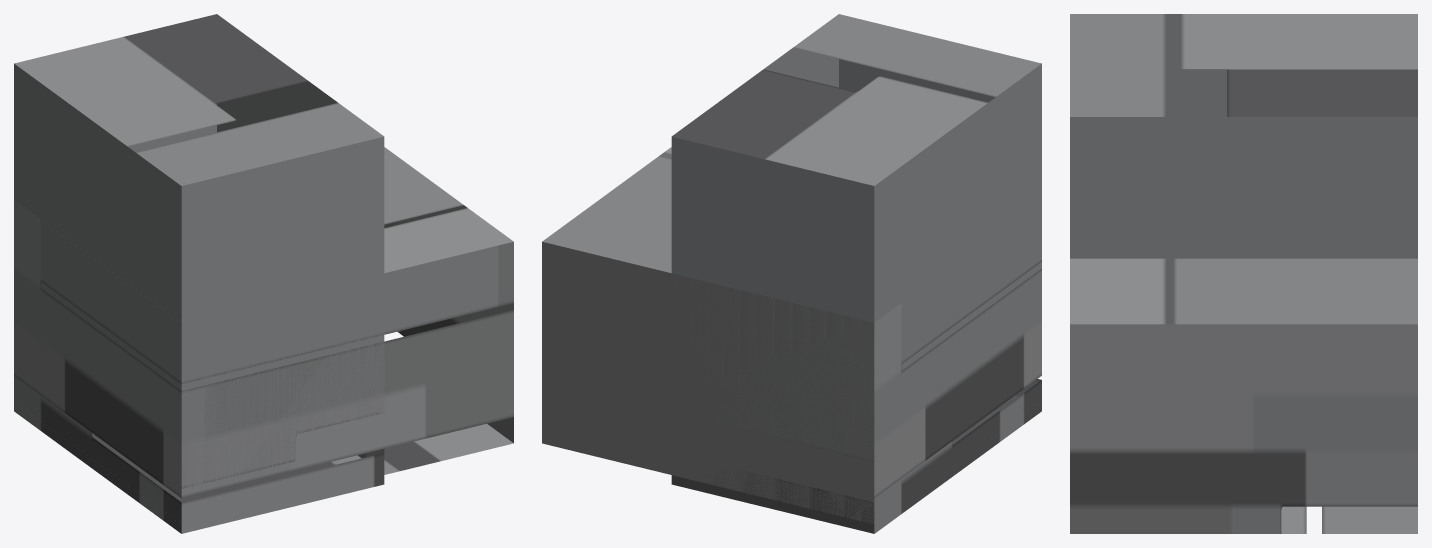
3 views of the same model, side by side, from view 1: azimuth 30°, elevation 25°; view 2: azimuth 150°, elevation 25°; view 3: azimuth 270°, elevation 25° (orthographic). The views are drawn at different scales.
Size of the model in its own units: 0.992 by 0.992 by 0.8655.
